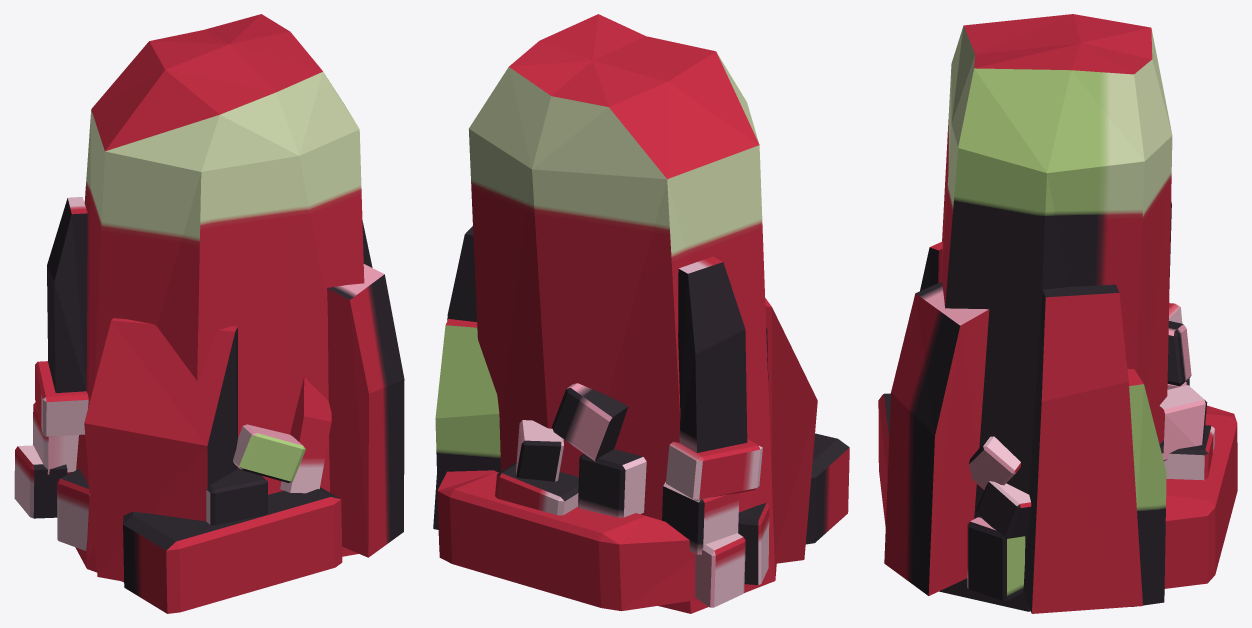
Rendered from Rock_2  (2).fbx.
3 renders of one model, left to right at view 1: azimuth 30°, elevation 25°; view 2: azimuth 150°, elevation 25°; view 3: azimuth 270°, elevation 25°, orthographic. The views are drawn at different scales.
Parts seen in each view (by area): view 1: Rock_2; view 2: Rock_2; view 3: Rock_2.
Boxes of the visible parts, x1,y1,x2,y2 form: Rock_2: [14, 14, 404, 613]; Rock_2: [433, 14, 849, 613]; Rock_2: [878, 14, 1237, 613].
Bounding box in the file's own units: 14.54 × 21.08 × 13.05.
